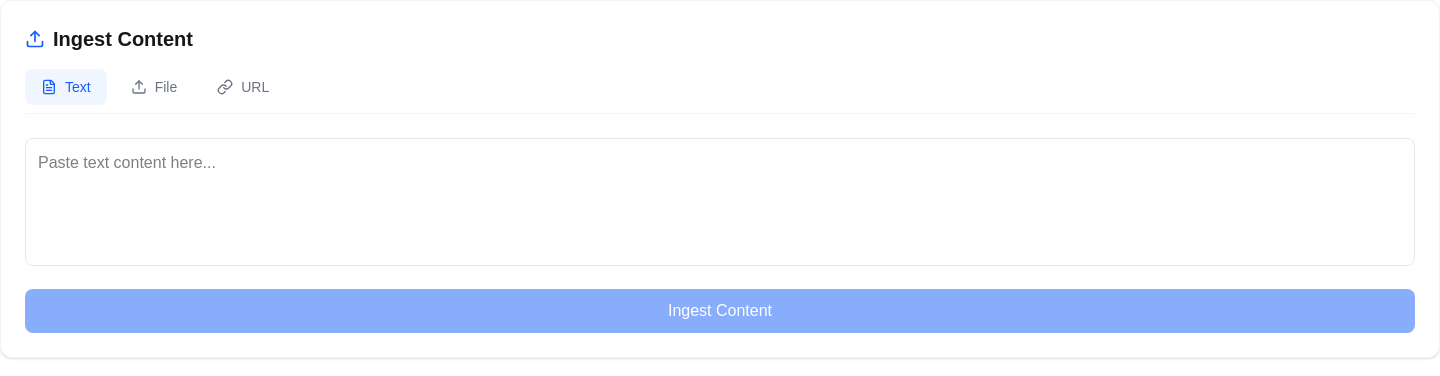
Test: IngestForm › switches tabs correctly
Note: Switch to URL tab
Click the button "URL" at (243, 87), box [201, 69, 285, 105]
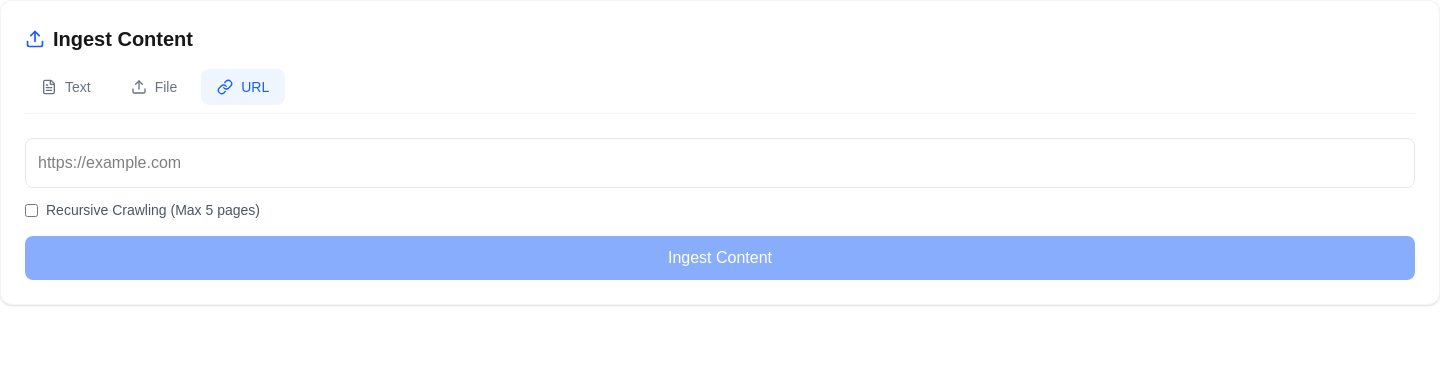
expect the field with placeholder "https://example.com" is shown: met, box [25, 138, 1415, 188]
Note: Switch to File tab
Click the button "File" at (154, 87), box [115, 69, 193, 105]
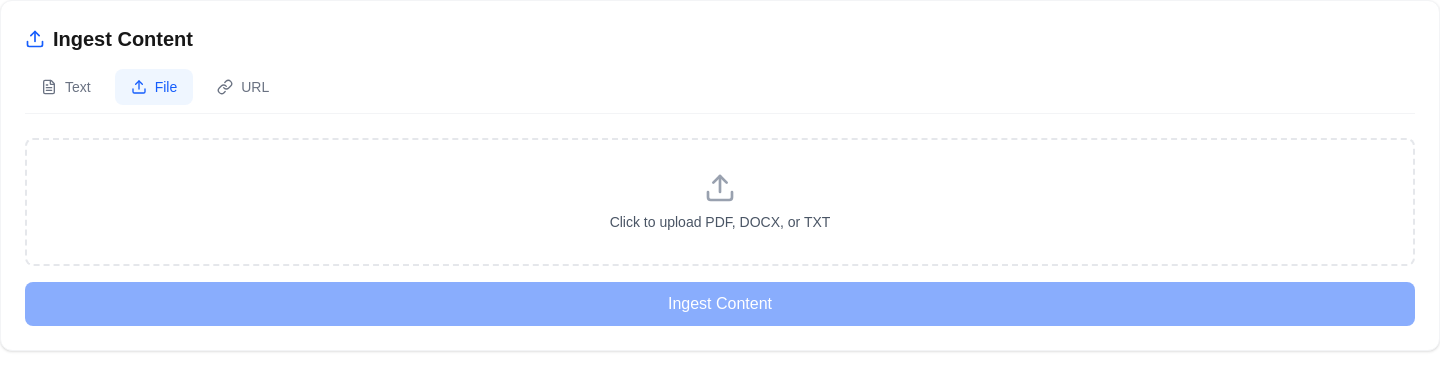
expect the text "Click to upload PDF, DOCX, or TXT" is shown: met, box [610, 212, 830, 232]
